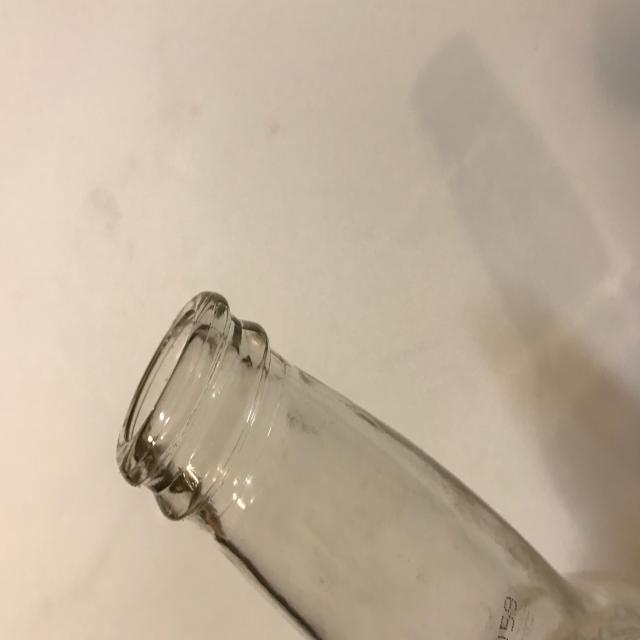glass: (115, 289, 601, 640)
